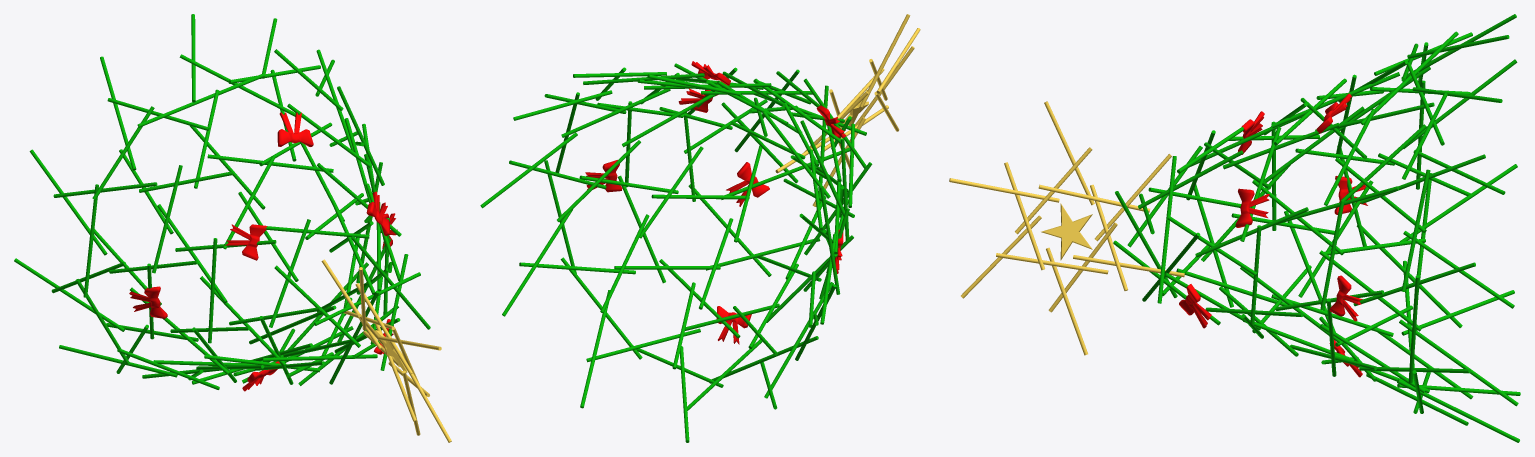
File: tree_stix_v4.gltf
3 views of the same model, side by side, from view 1: azimuth 30°, elevation 25°; view 2: azimuth 150°, elevation 25°; view 3: azimuth 270°, elevation 25° (orthographic). The views are drawn at different scales.
Visible parts, largest first — view 1: Star_ChristmasTree_0 (×25), Ribbon.01_ChristmasTree_0 (×4); view 2: Star_ChristmasTree_0 (×24), Ribbon.01_ChristmasTree_0 (×3); view 3: Star_ChristmasTree_0 (×10), Ribbon.01_ChristmasTree_0 (×3).
Boxes of the visible parts, <box> form: Star_ChristmasTree_0 (×25): <box>14,54,430,389</box>; Ribbon.01_ChristmasTree_0 (×4): <box>129,112,390,318</box>; Star_ChristmasTree_0 (×24): <box>480,14,910,408</box>; Ribbon.01_ChristmasTree_0 (×3): <box>585,160,769,344</box>; Star_ChristmasTree_0 (×10): <box>1041,31,1519,442</box>; Ribbon.01_ChristmasTree_0 (×3): <box>1179,188,1362,328</box>.
Bounding box in the file's own units: 0.0179 × 0.0178 × 0.0241.
3 materials, 1 textured.
